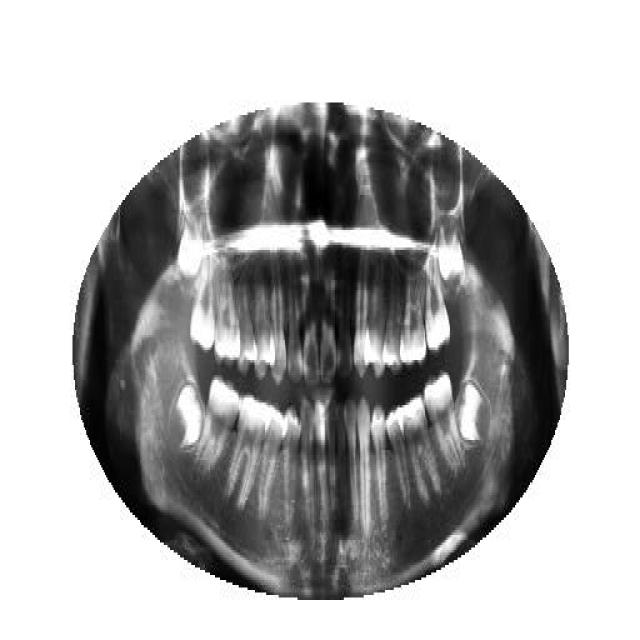Impacted Tooth: (455, 375, 493, 447), (170, 378, 205, 452)
